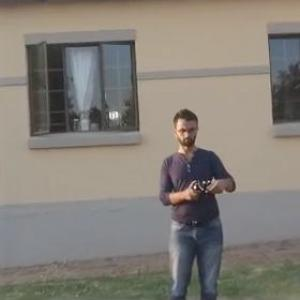follow: (154, 103, 240, 299)
